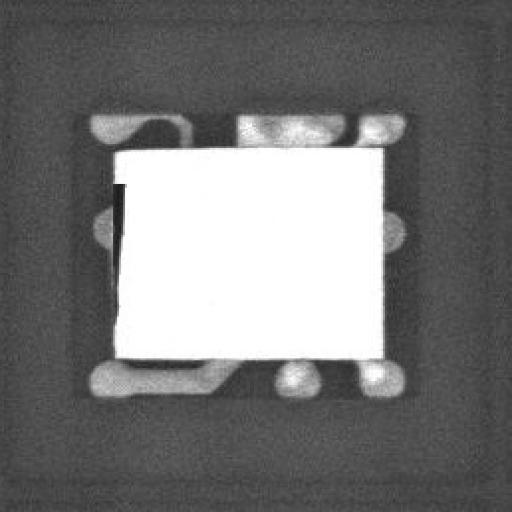DIE_BROKEN: (105, 174, 125, 320)
